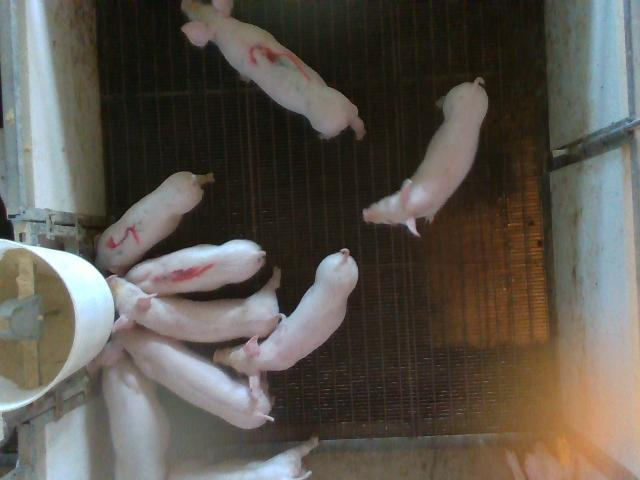pig-1: (125, 239, 266, 296)
pig-3: (181, 0, 365, 139)
pig-5: (95, 171, 214, 276)
